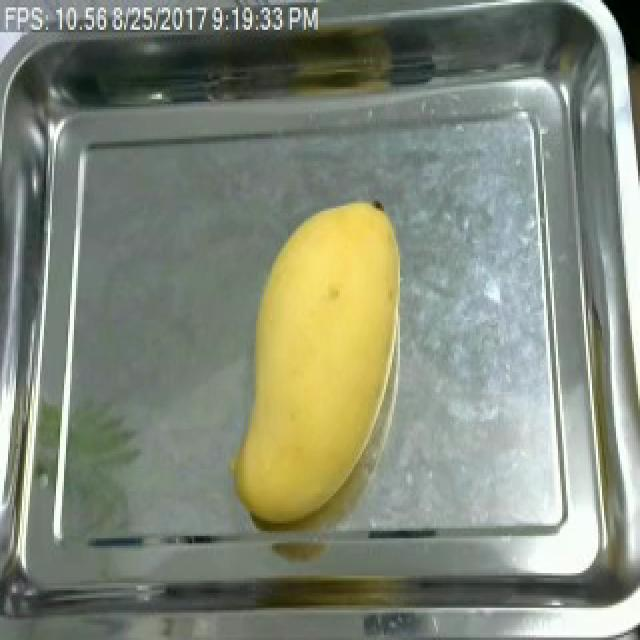fruit: (226, 191, 406, 536)
